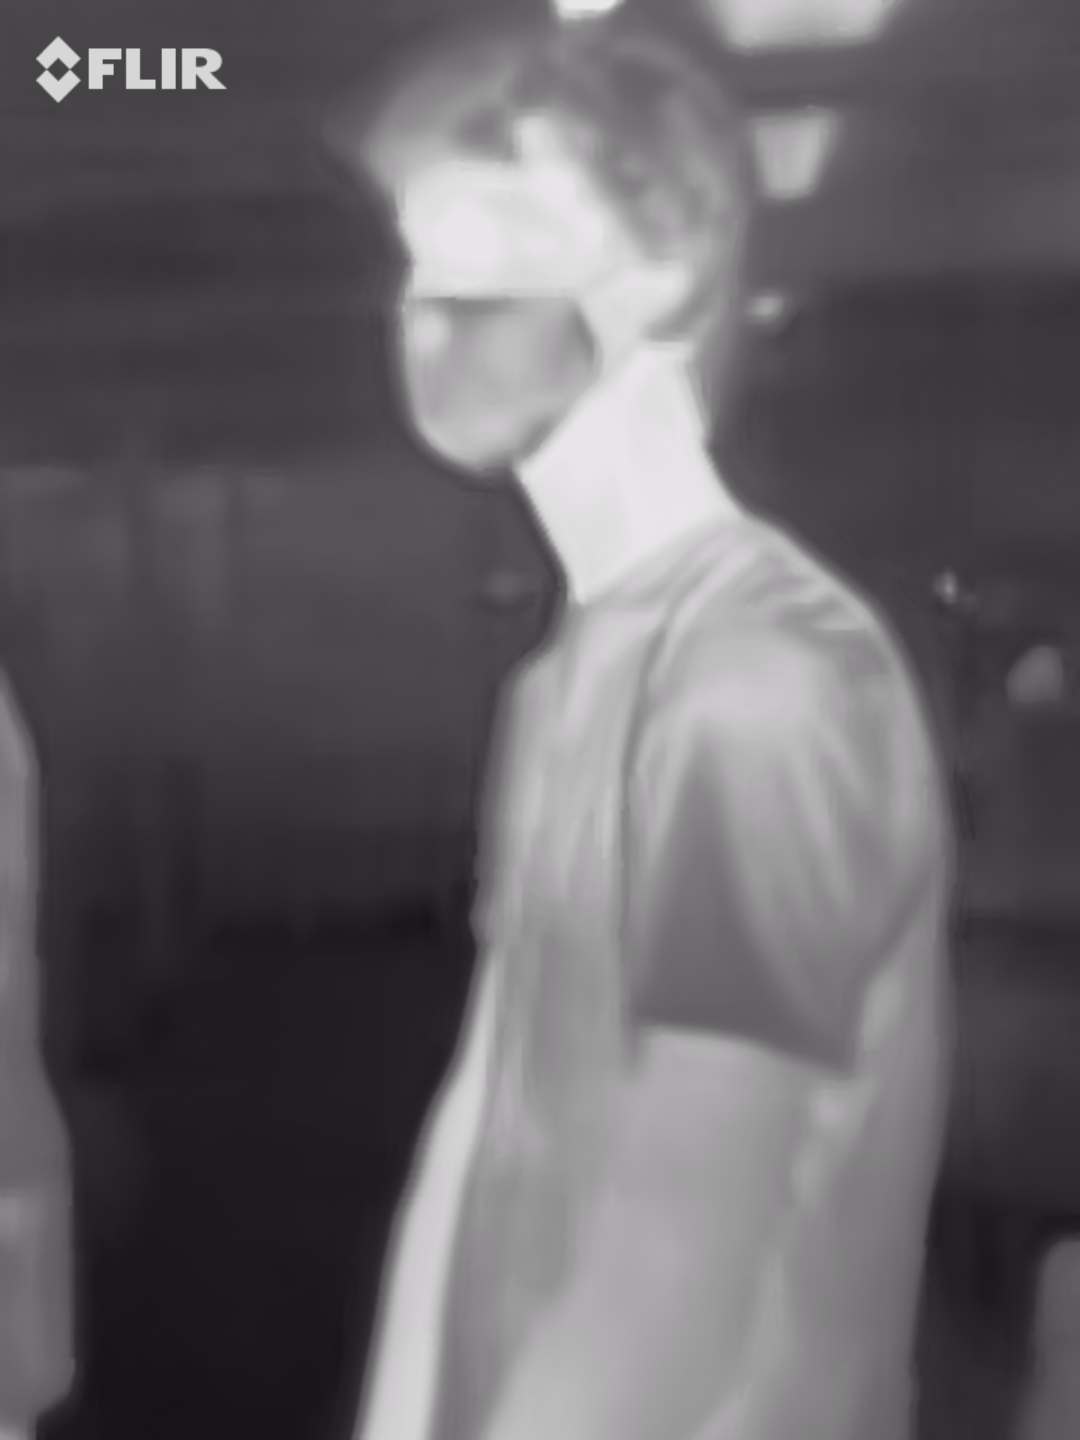head: (354, 1, 747, 507)
